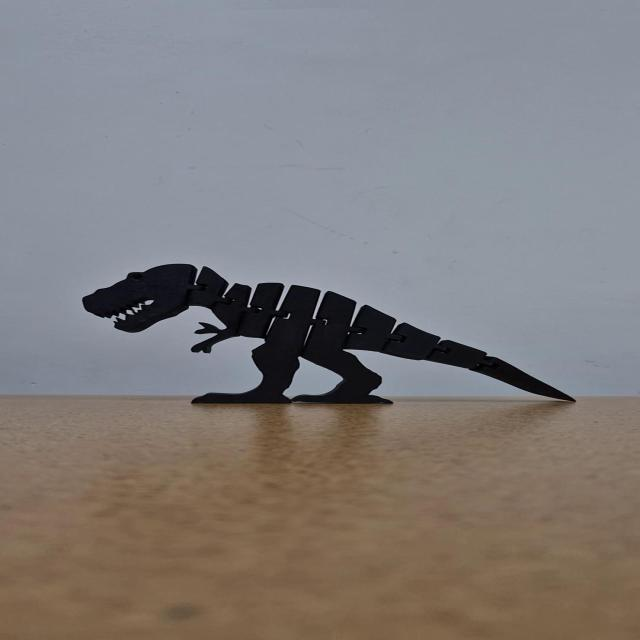dino: (81, 263, 577, 405)
